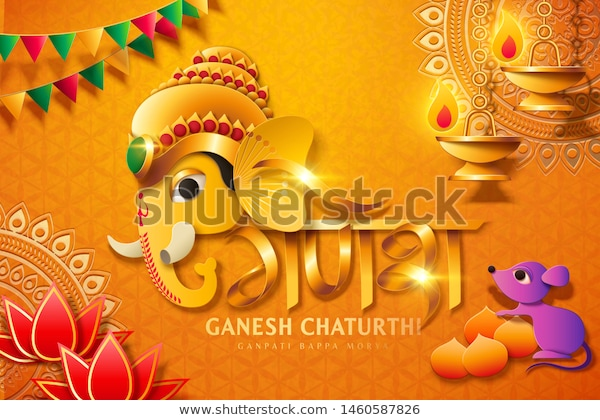modak: (465, 306, 541, 363), (428, 333, 509, 374)
